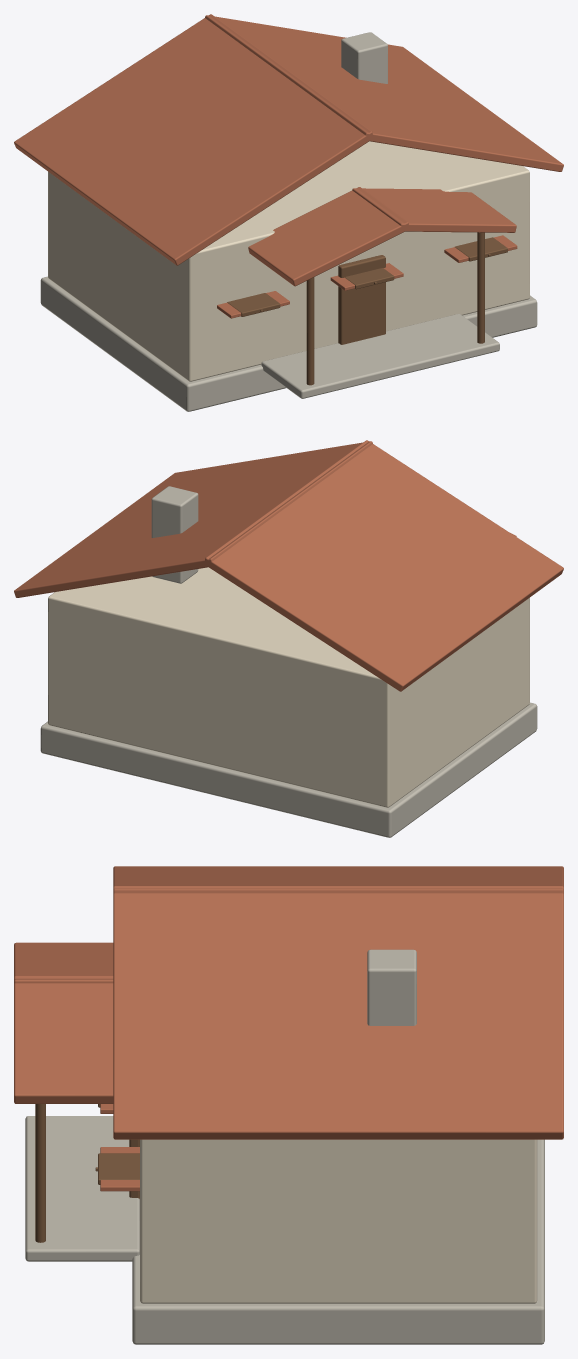
The model's file is Building_Coastal_Cottage_01_Detailed.fbx.
3 renders of one model, top to bottom at view 1: azimuth 30°, elevation 25°; view 2: azimuth 150°, elevation 25°; view 3: azimuth 270°, elevation 25°, orthographic. The views are drawn at different scales.
Visible parts, largest first — view 1: Cottage_Walls, Cottage_Roof_L, Cottage_Roof_R, Cottage_Porch, Cottage_Base, Cottage_PorchRoof_L, Cottage_PorchRoof_R, Cottage_Door, Cottage_Chimney, Cottage_PorchPost_-1.8, Cottage_PorchPost_1.8, Cottage_Window_-2.4_Frame (+2 smaller); view 2: Cottage_Walls, Cottage_Roof_L, Cottage_Roof_R, Cottage_Base, Cottage_Chimney; view 3: Cottage_Roof_R, Cottage_Walls, Cottage_Base, Cottage_Porch, Cottage_PorchRoof_R, Cottage_Roof_L, Cottage_PorchRoof_L, Cottage_Chimney, Cottage_PorchPost_1.8, Cottage_Window_2.4_Frame.
Boxes of the visible parts, bbox=[...] form: Cottage_Walls: bbox=[48, 141, 529, 381]; Cottage_Roof_L: bbox=[14, 14, 373, 265]; Cottage_Roof_R: bbox=[205, 15, 563, 171]; Cottage_Porch: bbox=[261, 314, 499, 398]; Cottage_Base: bbox=[40, 276, 537, 411]; Cottage_PorchRoof_L: bbox=[248, 187, 408, 286]; Cottage_PorchRoof_R: bbox=[352, 188, 516, 232]; Cottage_Door: bbox=[338, 255, 385, 344]; Cottage_Chimney: bbox=[341, 32, 387, 83]; Cottage_PorchPost_-1.8: bbox=[306, 277, 314, 385]; Cottage_PorchPost_1.8: bbox=[477, 232, 484, 343]; Cottage_Window_-2.4_Frame: bbox=[227, 293, 280, 316]; Cottage_Walls: bbox=[48, 567, 529, 807]; Cottage_Roof_L: bbox=[204, 440, 563, 691]; Cottage_Roof_R: bbox=[14, 441, 372, 597]; Cottage_Base: bbox=[40, 702, 537, 837]; Cottage_Chimney: bbox=[151, 486, 198, 583]; Cottage_Roof_R: bbox=[113, 885, 563, 1139]; Cottage_Walls: bbox=[140, 1139, 537, 1303]; Cottage_Base: bbox=[132, 1139, 544, 1344]; Cottage_Porch: bbox=[25, 1116, 139, 1261]; Cottage_PorchRoof_R: bbox=[14, 975, 113, 1103]; Cottage_Roof_L: bbox=[113, 866, 563, 893]; Cottage_PorchRoof_L: bbox=[14, 942, 113, 983]; Cottage_Chimney: bbox=[367, 949, 416, 1025]; Cottage_PorchPost_1.8: bbox=[35, 1104, 45, 1242]; Cottage_Window_2.4_Frame: bbox=[98, 1153, 139, 1184].
Size of the model in its own units: 822 by 490 by 720.
